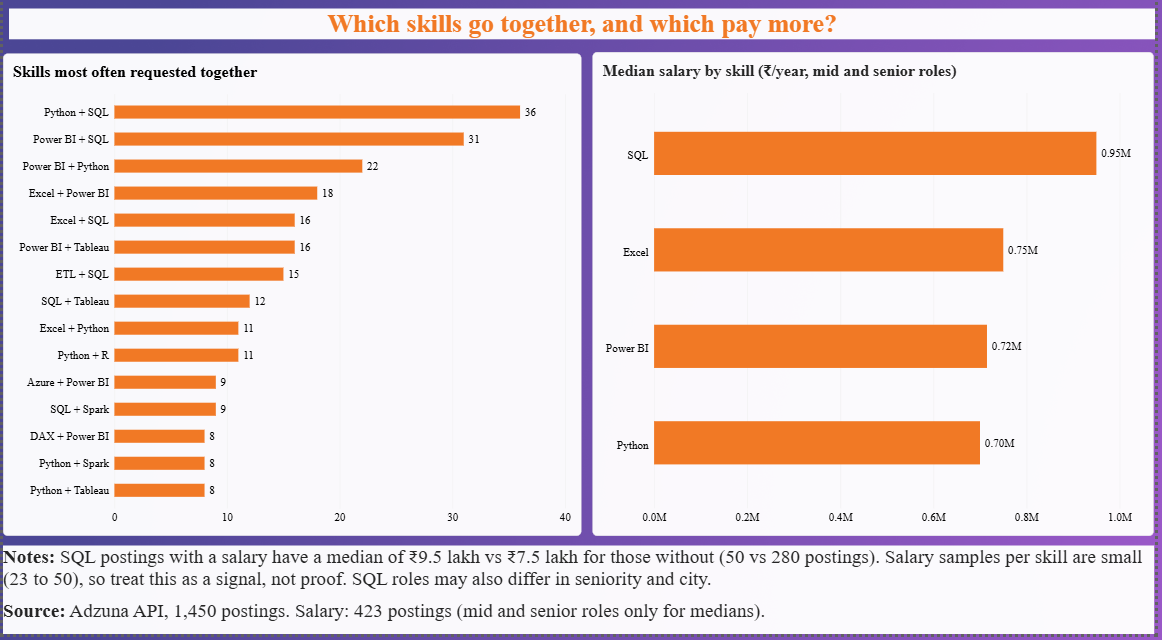

This screenshot's page, from the dashboard's own definition file:
{"tool":"powerbi","page":{"name":"Skills","canvas":[1920,1080],"ordinal":1},"visuals":[{"type":"textbox","box":[10.3,38.5,1910.3,51.3],"z":0},{"type":"clusteredBarChart","title":"Skills most often requested together","fields":{"Category":["q5_skill_pairs.Pair"],"Y":["Sum(q5_skill_pairs.jobs_together)"]},"box":[0,111.7,964.3,803.9],"z":1000},{"type":"clusteredBarChart","title":"Median salary by skill (₹/year, mid and senior roles)","fields":{"Category":["q3_median_salary_by_skill.skill"],"Y":["Sum(q3_median_salary_by_skill.median_salary)"]},"box":[983.7,109.3,935.1,806.4],"z":2000},{"type":"textbox","box":[0,932.7,1918.8,148.2],"z":3000}]}

Visuals, with their boxes in screenshot pixels (x1, y1, x2, y2), scaled from the page's 1920x1080 canvas onto the 1162x640 screenshot:
textbox: 6,23,1161,53
"Skills most often requested together" clusteredBarChart: 0,66,584,543
"Median salary by skill (₹/year, mid and senior roles)" clusteredBarChart: 595,65,1161,543
textbox: 0,553,1161,639
